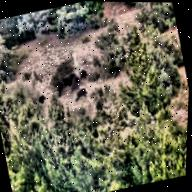boar: (73, 86, 93, 104), (77, 64, 95, 83), (37, 90, 50, 105), (55, 80, 67, 95), (70, 80, 81, 91)
